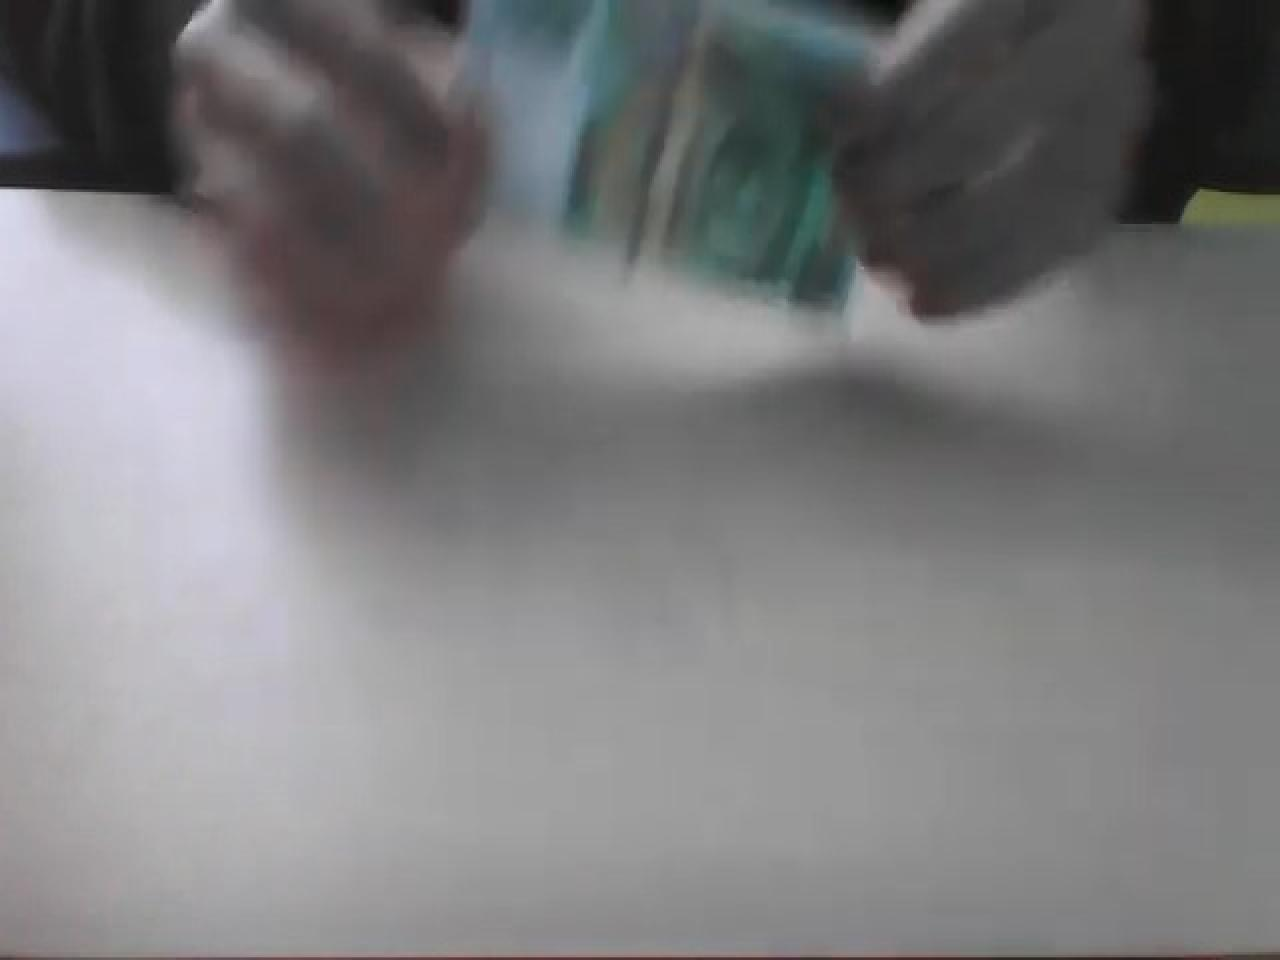100leva: (2, 3, 1276, 952), (164, 0, 494, 357)
